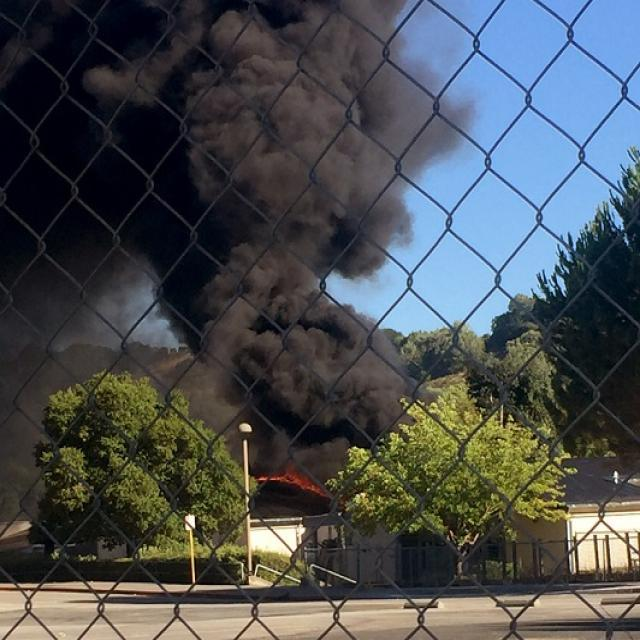Fire: (236, 457, 350, 505)
Smoke: (13, 5, 466, 503)
